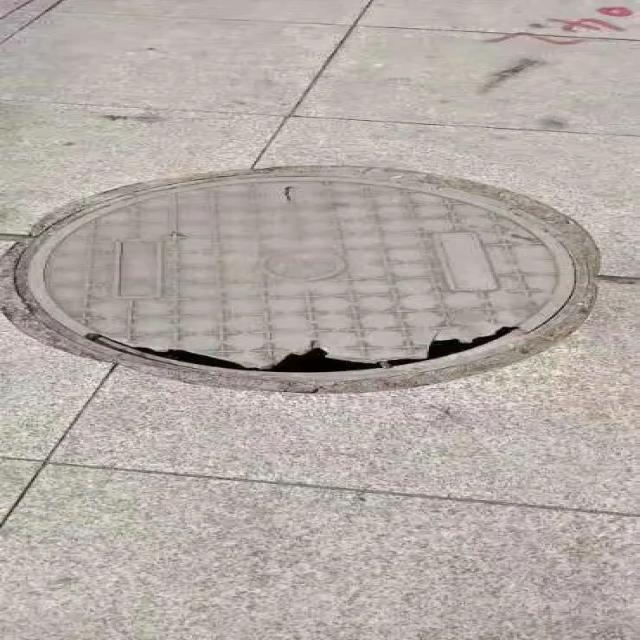manhole: (0, 168, 599, 392)
